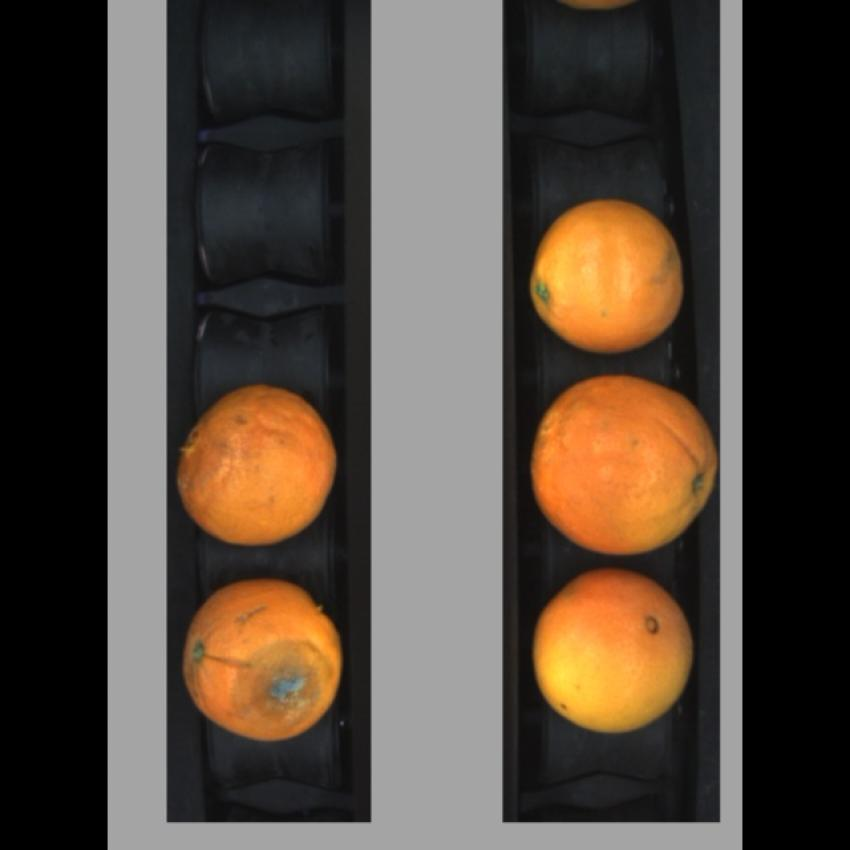Buen estado: (526, 566, 701, 736), (530, 193, 688, 359)
Mal estado: (522, 370, 720, 554), (179, 574, 352, 738), (174, 382, 338, 546)
